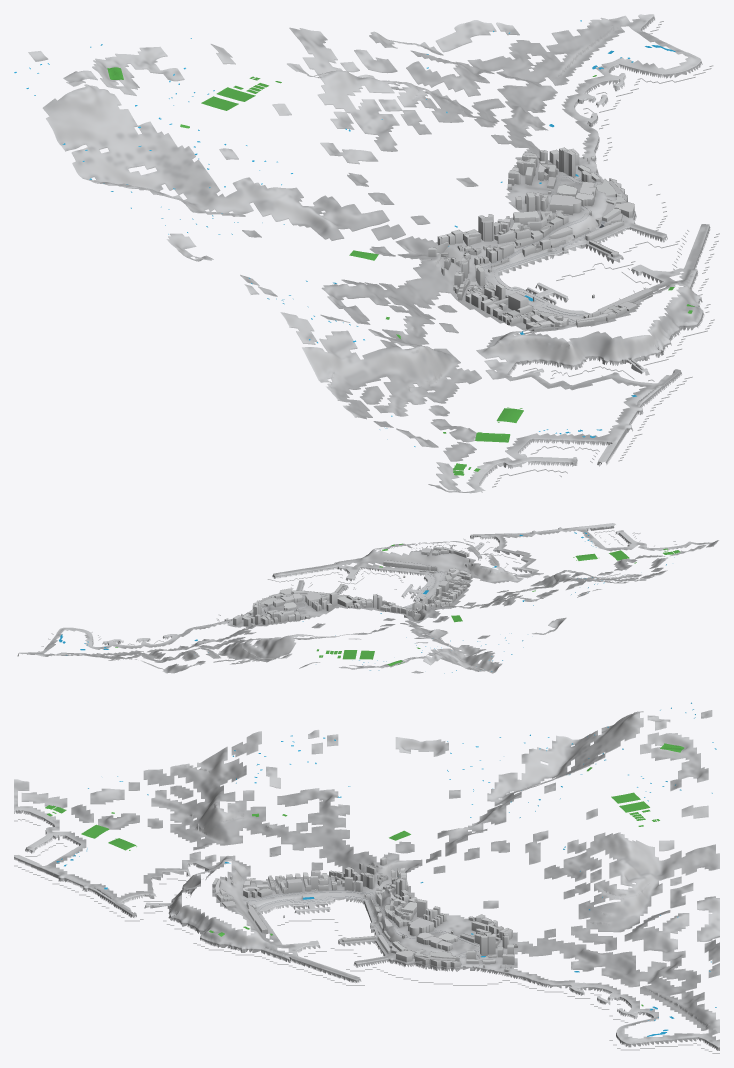
Rendered from core.glb.
3 views of the same model, one above another, from view 1: azimuth 30°, elevation 25°; view 2: azimuth 150°, elevation 25°; view 3: azimuth 270°, elevation 25° (orthographic). The views are drawn at different scales.
Visible parts, largest first — view 1: terrain, building, pitch; view 2: terrain, building, pitch; view 3: terrain, building, pitch.
Boxes of the visible parts, box(x1,y1,x2,y2) form: terrain: box(28, 14, 719, 493); building: box(428, 147, 652, 331); pitch: box(107, 67, 694, 475); terrain: box(17, 523, 718, 673); building: box(224, 546, 472, 626); pitch: box(115, 543, 680, 666); terrain: box(14, 710, 719, 1053); building: box(212, 857, 517, 971); pitch: box(45, 743, 684, 1006).
Size of the model in its own units: 2560 by 456 by 2960.
